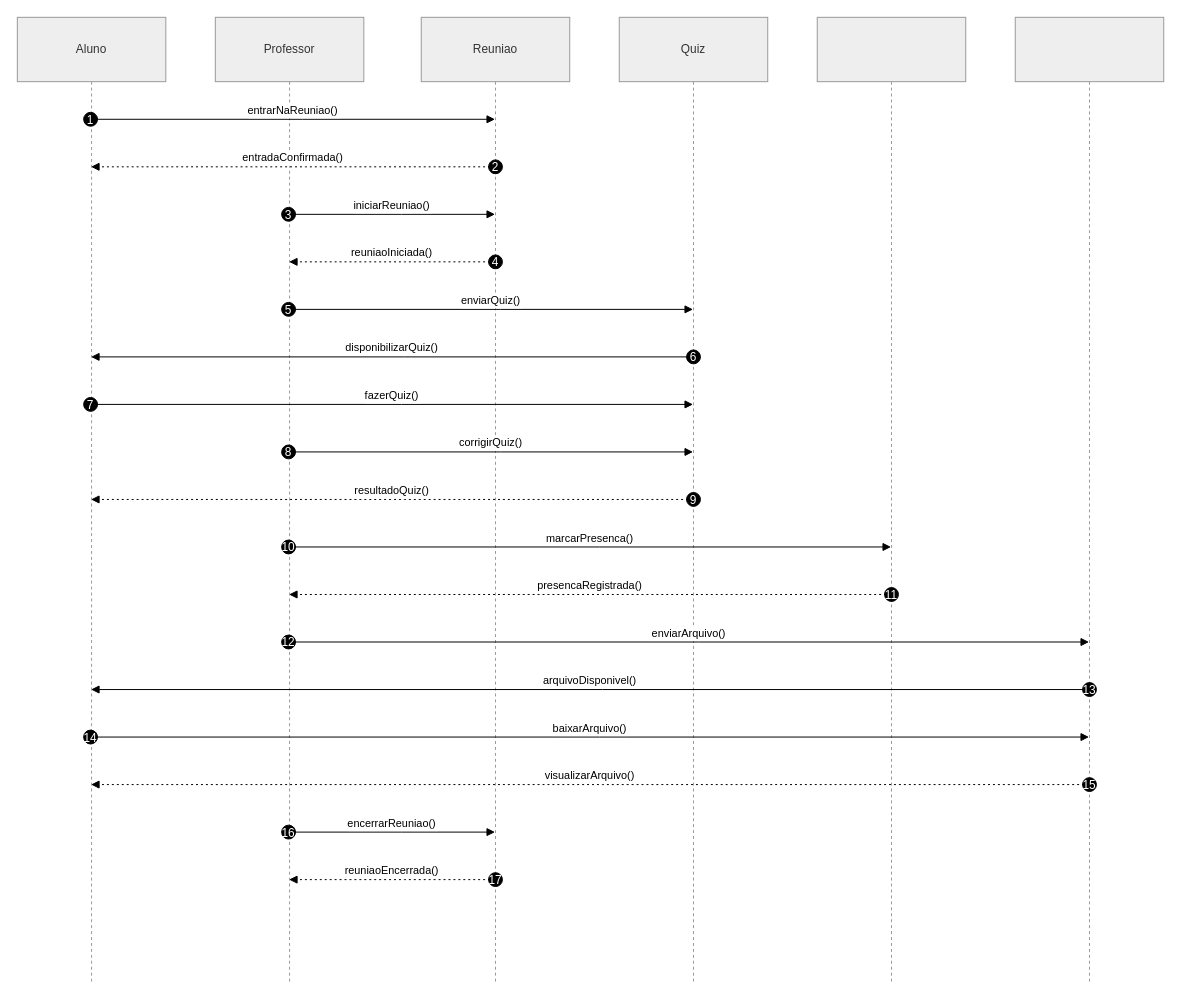
The diagram is 1181 pixels wide and 1001 high, and some of its shapes have lost their labels. Each missing label, with the box of its shape:
Arquivo: (1014, 16, 1164, 984)
Presenca: (816, 16, 966, 984)
